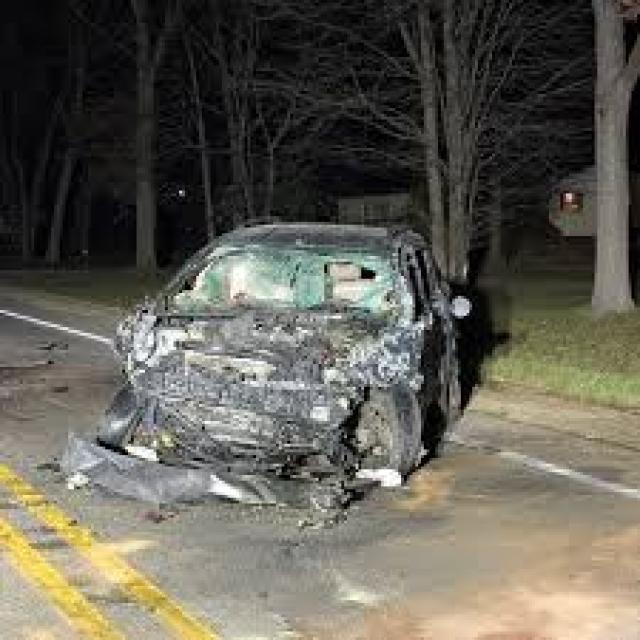accident: (54, 205, 529, 504)
